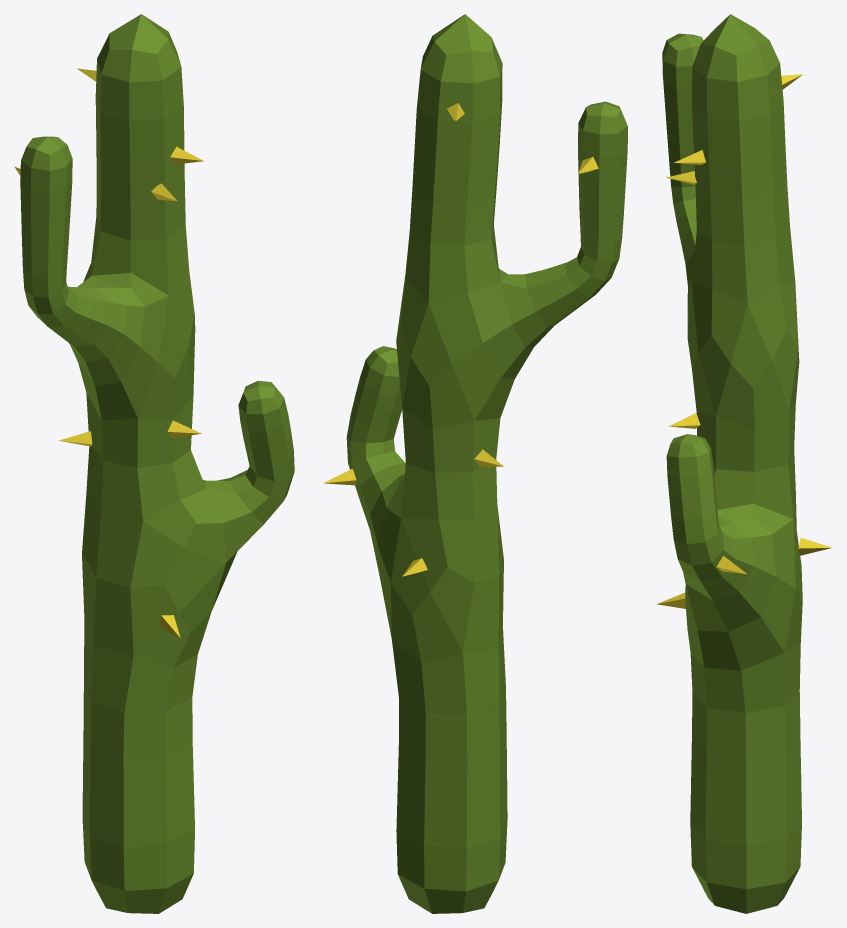
The model's file is Cactuz.glb.
The picture shows the model from 3 angles, left to right: view 1: azimuth 30°, elevation 25°; view 2: azimuth 150°, elevation 25°; view 3: azimuth 270°, elevation 25°; orthographic projection.
Visible parts, largest first — view 1: Plane; view 2: Plane; view 3: Plane.
Part boxes in pixels (x1=…): Plane: x1=14, y1=14, x2=294, y2=913; Plane: x1=323, y1=14, x2=627, y2=913; Plane: x1=657, y1=14, x2=832, y2=913.
Bounding box in the file's own units: 0.0914 × 0.289 × 0.0518.
